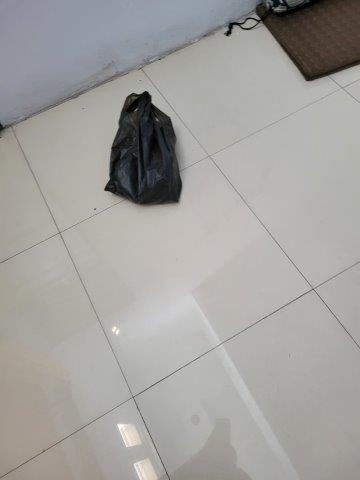plastik: (105, 92, 184, 206)
